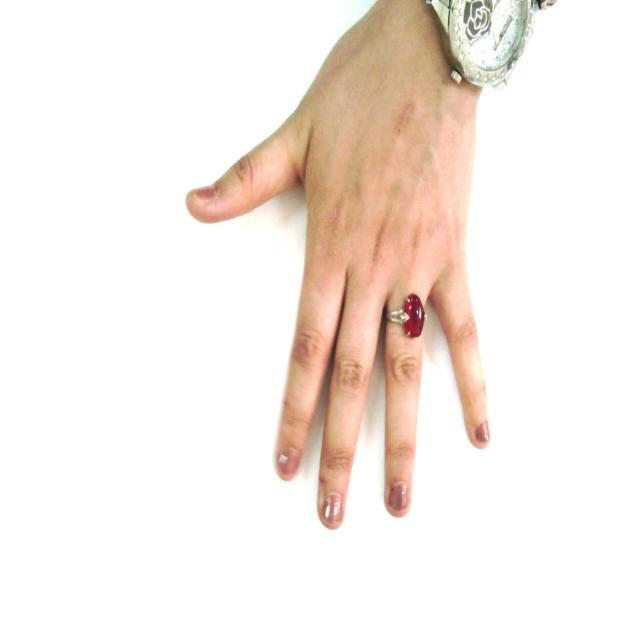Fingernail: (324, 494, 342, 524), (388, 484, 406, 511), (279, 454, 296, 476), (192, 187, 216, 201), (477, 424, 489, 443)
